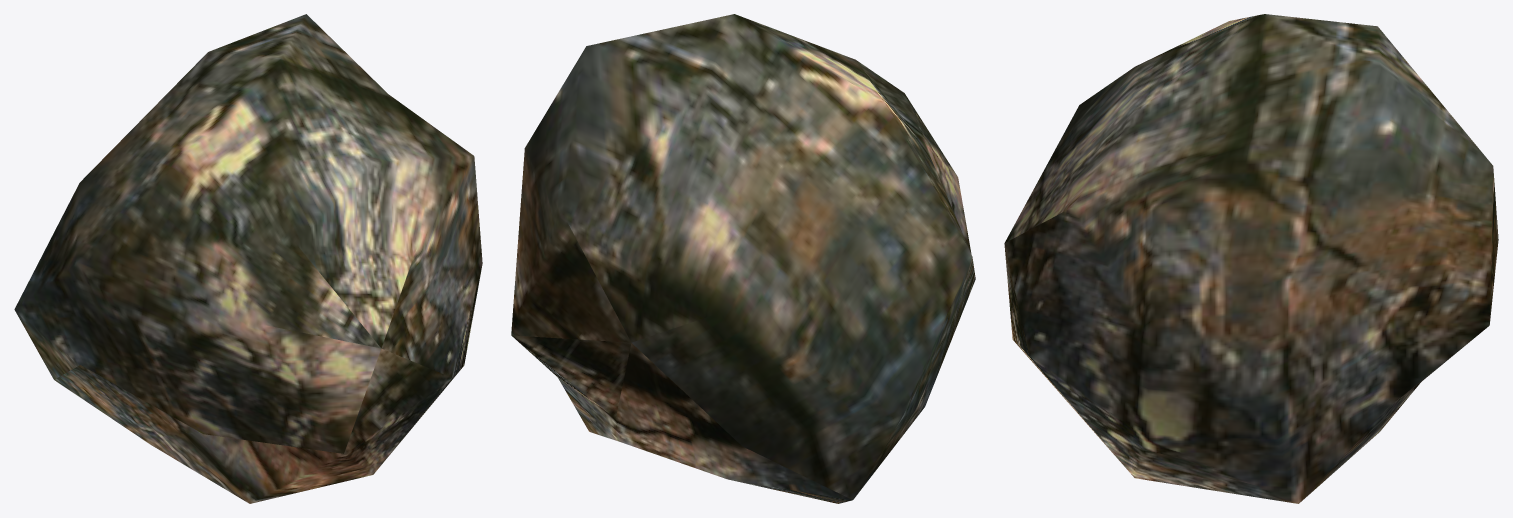
Rendered from boulder.FBX.
The picture shows the model from 3 angles, left to right: view 1: azimuth 30°, elevation 25°; view 2: azimuth 150°, elevation 25°; view 3: azimuth 270°, elevation 25°; orthographic projection. The views are drawn at different scales.
Visible parts, largest first — view 1: RoadKillOut; view 2: RoadKillOut; view 3: RoadKillOut.
Part boxes in pixels (box(x1,y1,x2,y2)): RoadKillOut: box(14, 14, 482, 503); RoadKillOut: box(511, 14, 975, 503); RoadKillOut: box(1004, 14, 1498, 503).
Bounding box in the file's own units: 75.19 × 76.2 × 74.16.
